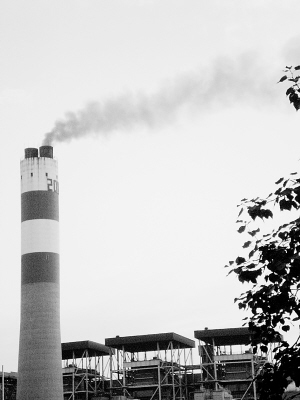dust: (29, 93, 184, 148)
